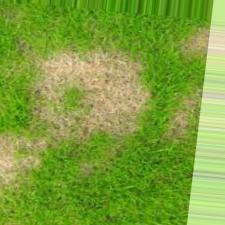patch: (49, 54, 142, 122), (14, 133, 28, 175)
